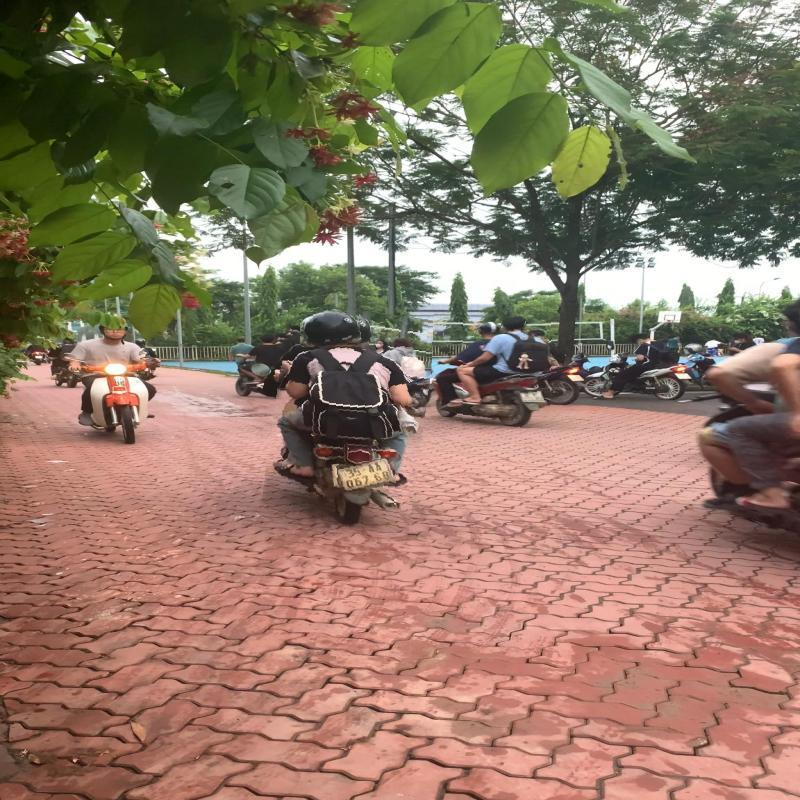helmet: (299, 308, 361, 346), (474, 321, 501, 334)
licenseplate: (337, 459, 396, 491), (520, 390, 544, 401)
motorcyclist: (268, 304, 432, 530), (432, 314, 552, 428)
nohelmet: (500, 314, 526, 331)
